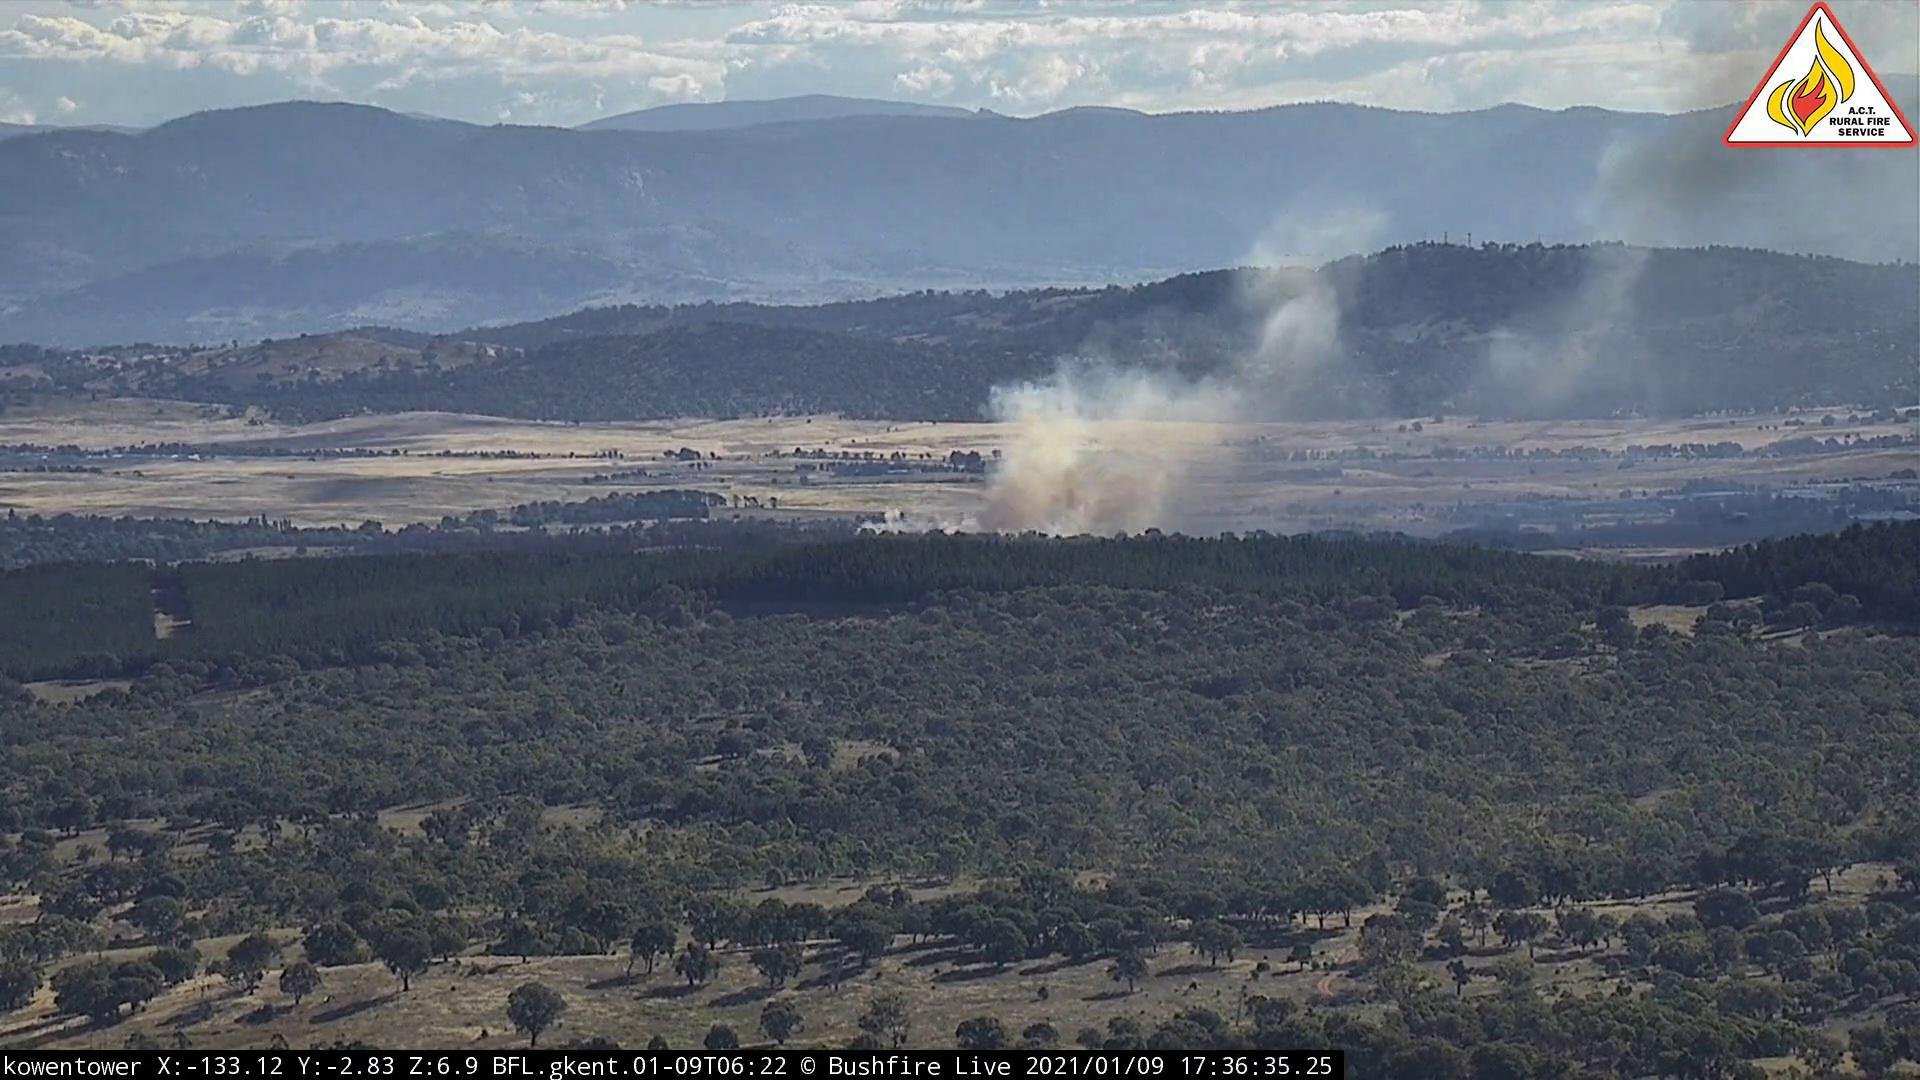Smoke: (870, 158, 1832, 549)
